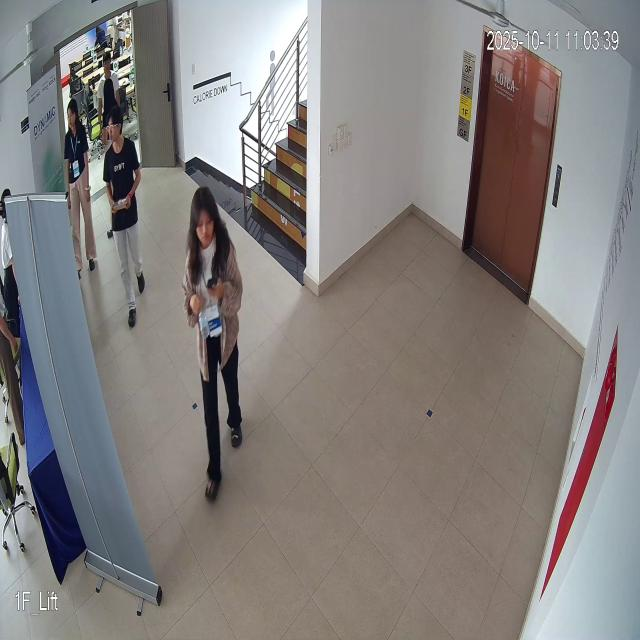face: (186, 183, 223, 256)
